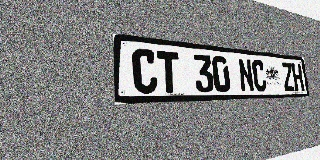0: (211, 56, 231, 92)
3: (193, 54, 214, 93)
C: (132, 48, 158, 94), (251, 59, 267, 92)
H: (291, 63, 304, 91)
N: (237, 58, 255, 92)
T: (157, 50, 181, 93)
Z: (281, 62, 295, 91)
